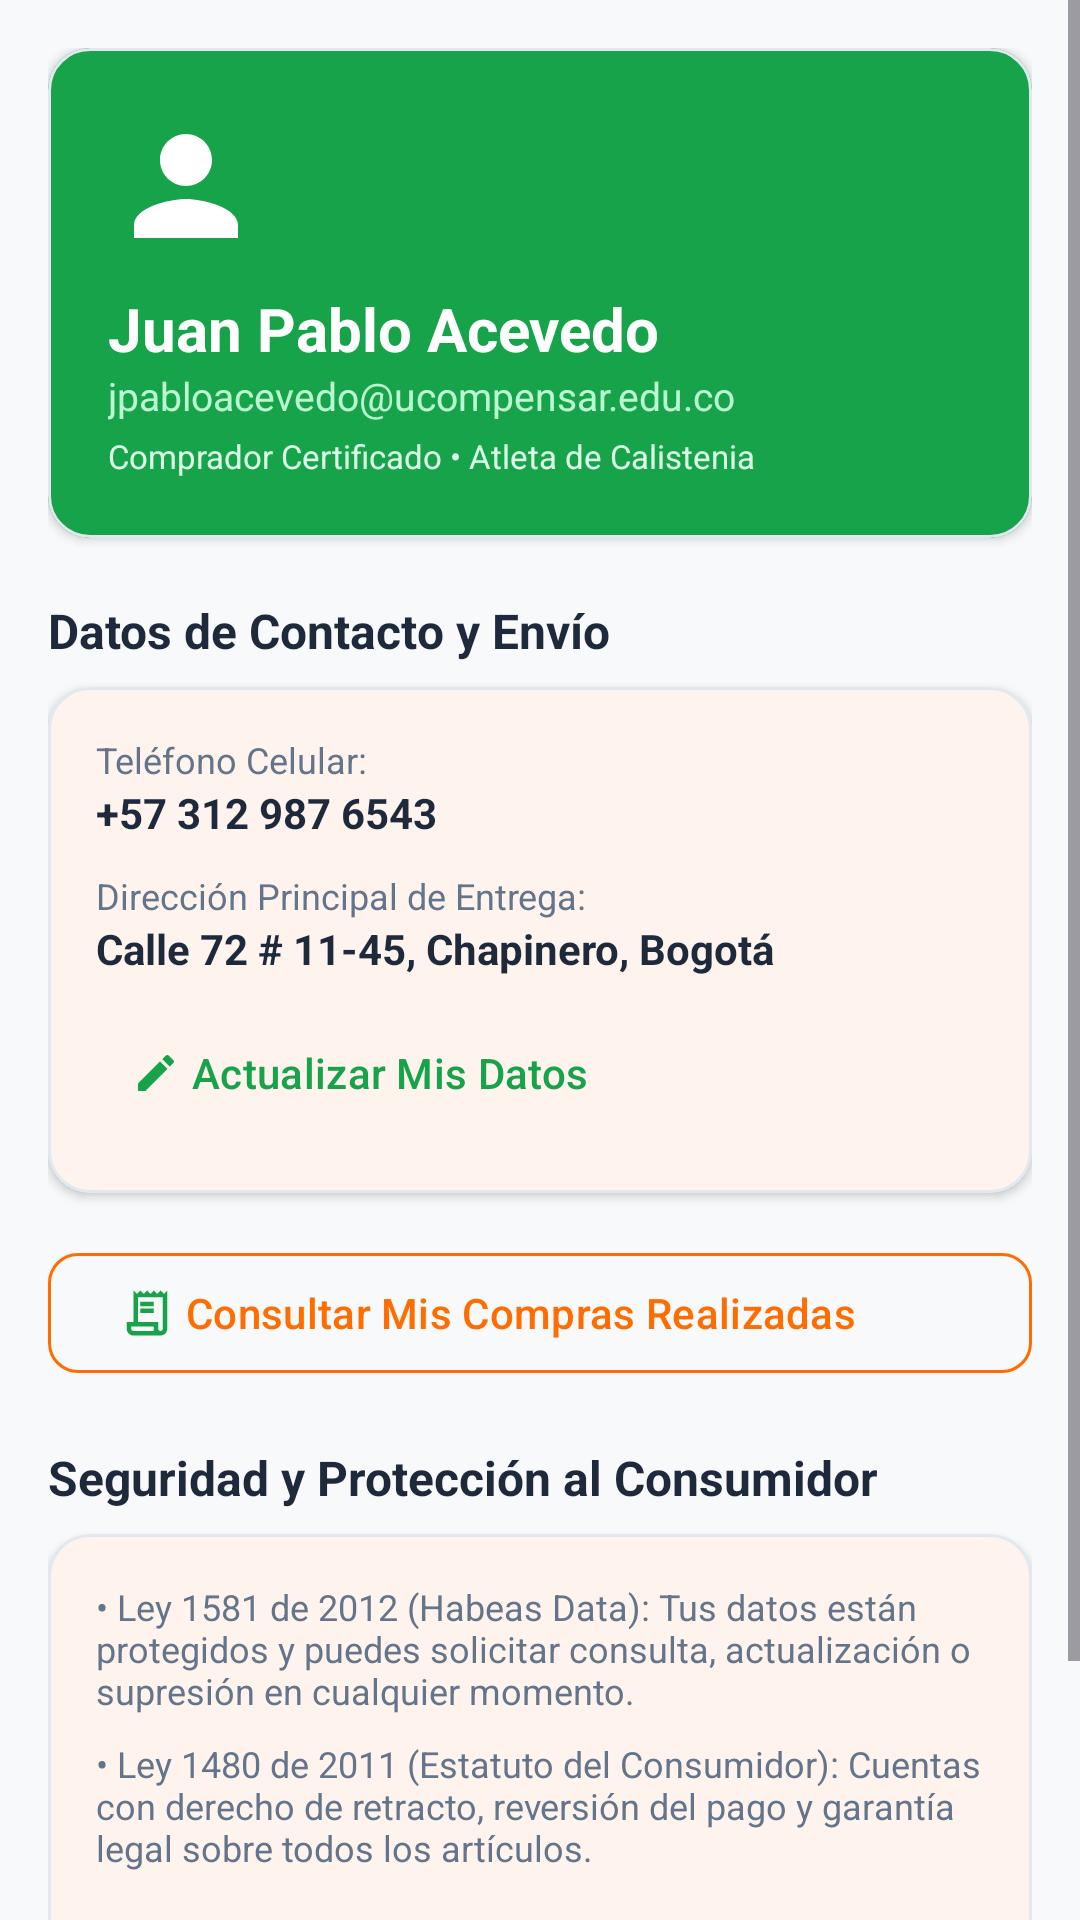

Named icons in this screenshot (1080px x 1920px) and their centers, point (x, y):
Avatar: point (186, 186)
